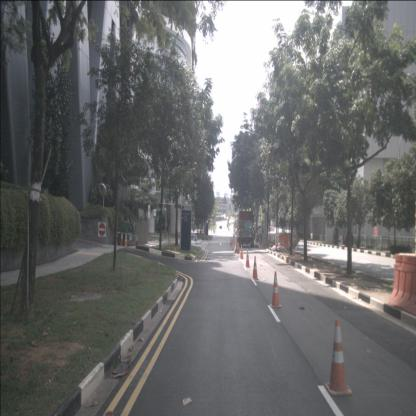human-pedestrian-adult: (168, 222, 171, 243), (140, 216, 143, 233)
movable_object-barrier: (388, 253, 416, 316), (279, 235, 293, 250)
movable_object-trafficcone: (324, 320, 352, 396), (270, 270, 282, 308), (251, 256, 259, 280), (245, 249, 250, 269), (119, 231, 124, 246), (240, 244, 244, 259), (135, 235, 139, 248), (124, 233, 128, 246), (236, 242, 240, 254), (115, 231, 118, 246), (129, 233, 132, 246)
vehicle-truck: (234, 211, 254, 248)
